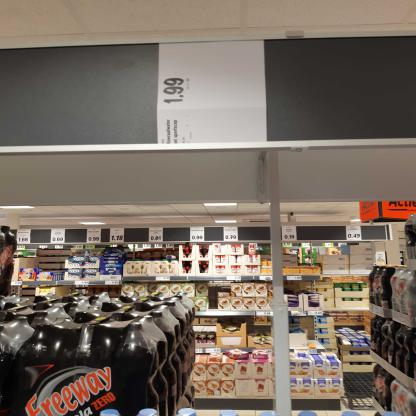prtg: (158, 40, 268, 145)
